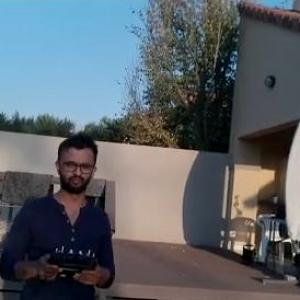follow: (0, 125, 122, 299)
